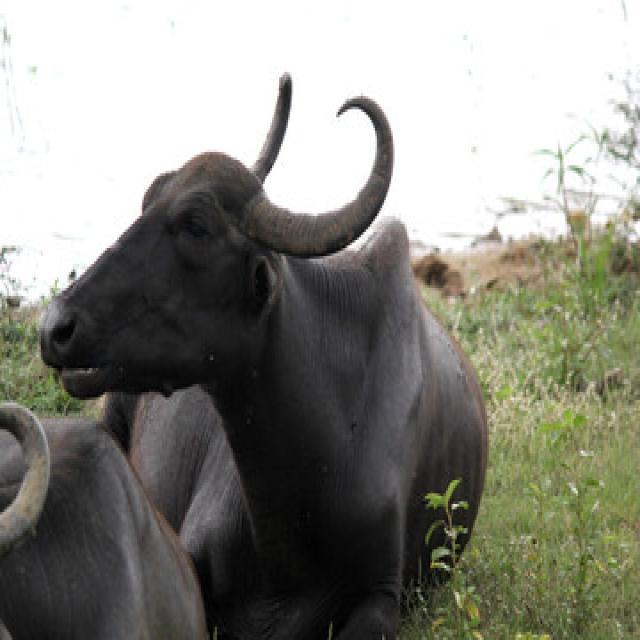Buffalo: (36, 67, 491, 637)
